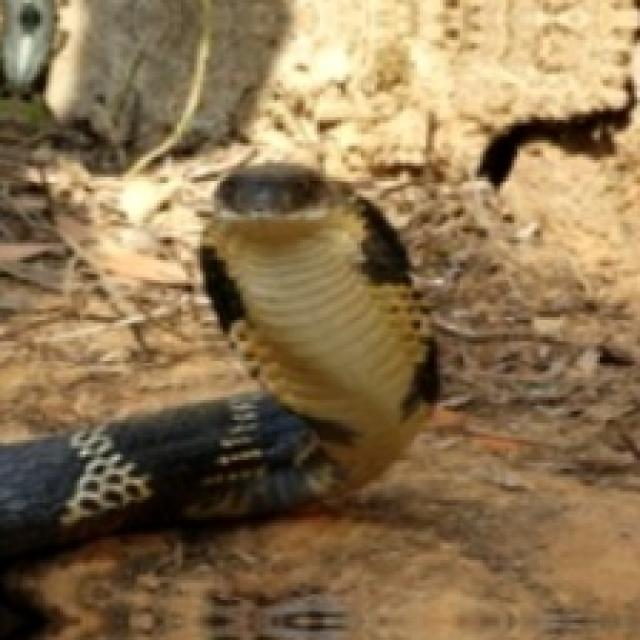king cobra: (0, 163, 434, 557), (49, 166, 434, 534), (200, 586, 349, 637)
